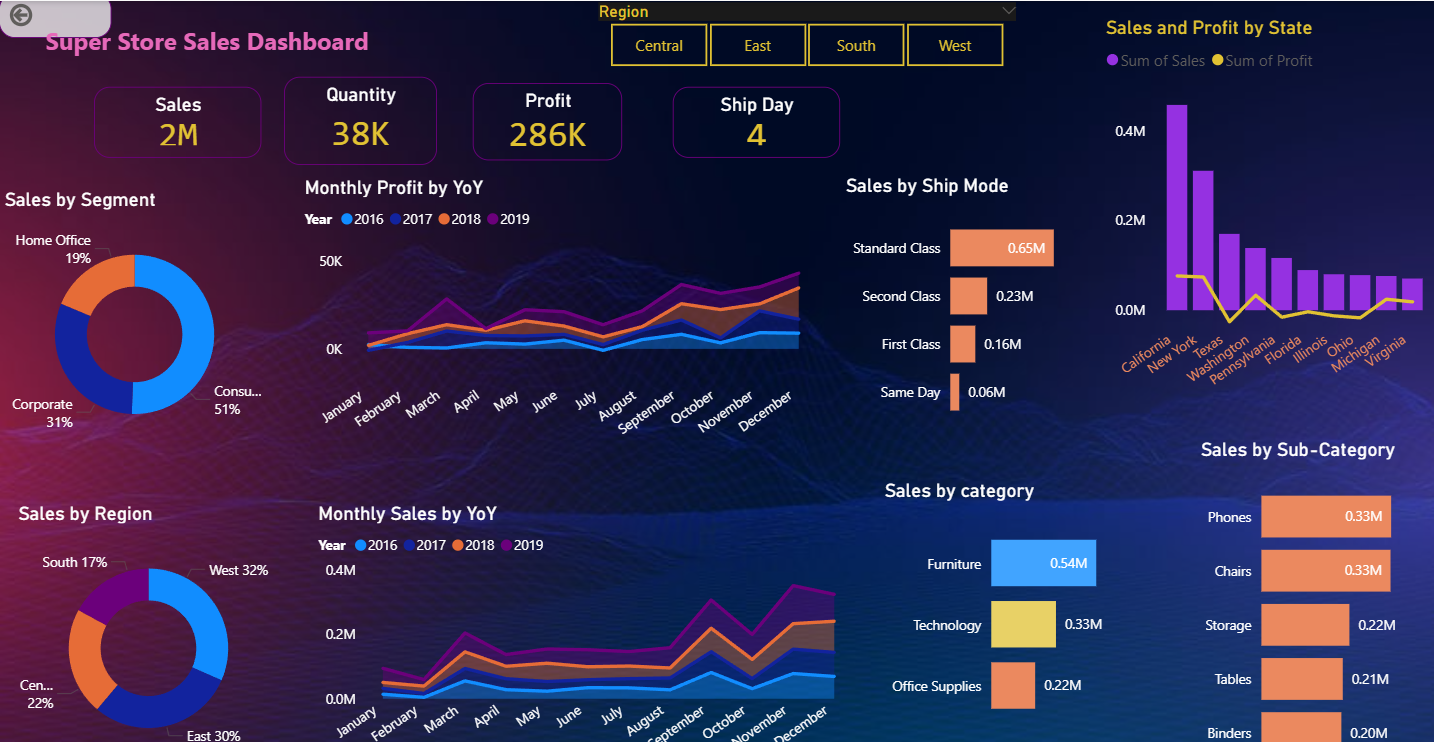

The page's visual inventory and layout, read from the dashboard file:
{"tool":"powerbi","page":{"name":"Sales Dashboard","canvas":[1280,720],"ordinal":0},"visuals":[{"type":"card","title":"Sales","fields":{"Values":["Sum(Orders.Sales)"]},"box":[84.3,82.9,148.6,62.9],"z":0},{"type":"clusteredBarChart","title":"Sales by Ship Mode","fields":{"Y":["Sum(Orders.Sales)"],"Category":["Orders.Ship Mode"]},"box":[747.5,161.2,231.2,233.8],"z":1000},{"type":"stackedAreaChart","title":"Monthly Sales by YoY","fields":{"Y":["Sum(Orders.Sales)"],"Category":["Orders.Order Date.Variation.Date Hierarchy.Month"],"Series":["Orders.Order Date.Variation.Date Hierarchy.Year"]},"box":[278.3,451.7,483.3,243.3],"z":2000},{"type":"stackedAreaChart","title":"Monthly Profit by YoY","fields":{"Category":["Orders.Order Date.Variation.Date Hierarchy.Month"],"Series":["Orders.Order Date.Variation.Date Hierarchy.Year"],"Y":["Sum(Orders.Profit)"]},"box":[266.7,161.7,463.3,253.3],"z":3000},{"type":"actionButton","box":[0,0,100,40],"z":4000},{"type":"donutChart","title":" Sales by Segment","fields":{"Category":["Orders.Segment"],"Y":["Sum(Orders.Sales)"]},"box":[0,172.9,241.4,241.4],"z":5000},{"type":"slicer","fields":{"Values":["Orders.Region"]},"box":[520,3.3,396.7,66.7],"z":6000},{"type":"textbox","box":[12.2,22.2,345.6,48.9],"z":7000},{"type":"card","title":"Quantity","fields":{"Values":["Sum(Orders.Quantity)"]},"box":[252.9,74.3,135.7,78.6],"z":8000},{"type":"card","title":"Profit","fields":{"Values":["Sum(Orders.Profit)"]},"box":[421.4,80,132.9,68.6],"z":9000},{"type":"clusteredBarChart","title":"Sales by Sub-Category","fields":{"Category":["Orders.Sub-Category"],"Y":["Sum(Orders.Sales)"]},"box":[1063.3,395,216.7,306.7],"z":10000},{"type":"donutChart","title":" Sales by Region","fields":{"Y":["Sum(Orders.Sales)"],"Category":["Orders.Region"]},"box":[11.7,451.7,241.7,241.7],"z":11000},{"type":"clusteredBarChart","title":"Sales by category","fields":{"Y":["Sum(Orders.Sales)"],"Category":["Orders.Category"]},"box":[782.2,432.2,231.9,233.3],"z":12000},{"type":"card","title":"Ship Day","fields":{"Values":["Avg(Orders.AvgDelivery)"]},"box":[598.6,82.9,148.6,62.9],"z":13000},{"type":"lineStackedColumnComboChart","title":"Sales and Profit by State","fields":{"Y":["Sum(Orders.Sales)"],"Y2":["Sum(Orders.Profit)"],"Category":["Orders.State"]},"box":[978.6,20,301.4,352.9],"z":14000}]}

Visuals, with their boxes on the page's 1280x720 design canvas (x1, y1, x2, y2). These are canvas units, not pixel positions in the 1434x742 screenshot, which may show the page scaled, cropped or inside an application window:
"Sales" card: x1=84, y1=83, x2=233, y2=146
"Sales by Ship Mode" clusteredBarChart: x1=748, y1=161, x2=979, y2=395
"Monthly Sales by YoY" stackedAreaChart: x1=278, y1=452, x2=762, y2=695
"Monthly Profit by YoY" stackedAreaChart: x1=267, y1=162, x2=730, y2=415
actionButton: x1=0, y1=0, x2=100, y2=40
" Sales by Segment" donutChart: x1=0, y1=173, x2=241, y2=414
slicer - Orders.Region: x1=520, y1=3, x2=917, y2=70
textbox: x1=12, y1=22, x2=358, y2=71
"Quantity" card: x1=253, y1=74, x2=389, y2=153
"Profit" card: x1=421, y1=80, x2=554, y2=149
"Sales by Sub-Category" clusteredBarChart: x1=1063, y1=395, x2=1280, y2=702
" Sales by Region" donutChart: x1=12, y1=452, x2=253, y2=693
"Sales by category" clusteredBarChart: x1=782, y1=432, x2=1014, y2=666
"Ship Day" card: x1=599, y1=83, x2=747, y2=146
"Sales and Profit by State" lineStackedColumnComboChart: x1=979, y1=20, x2=1280, y2=373
